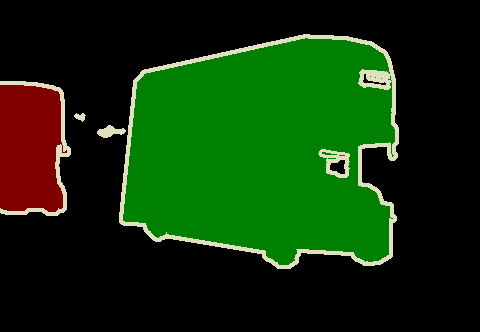bus: (122, 37, 399, 263), (1, 84, 65, 210)
